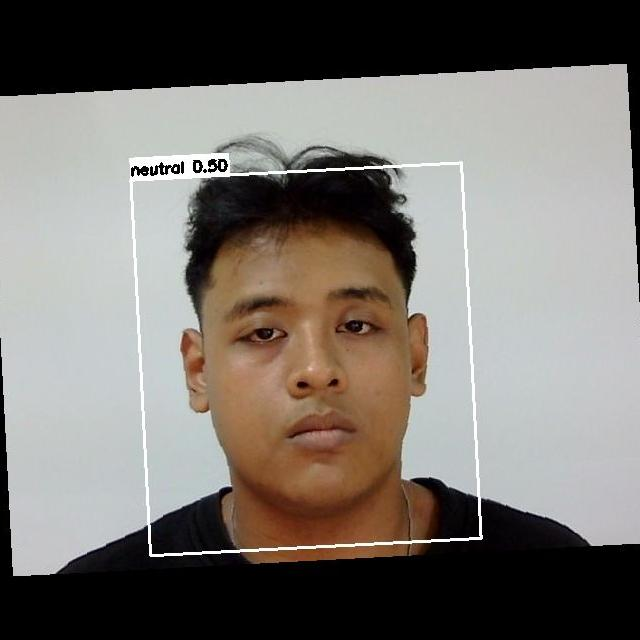Natural: (211, 278, 432, 479)
